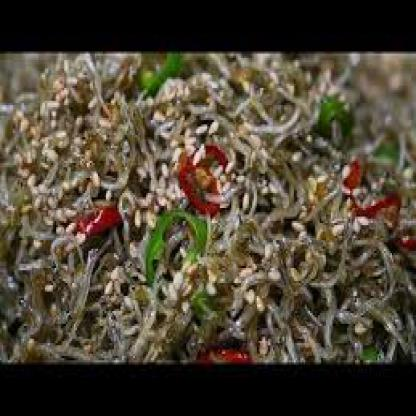stir-fried anchovies: (8, 53, 414, 362)
